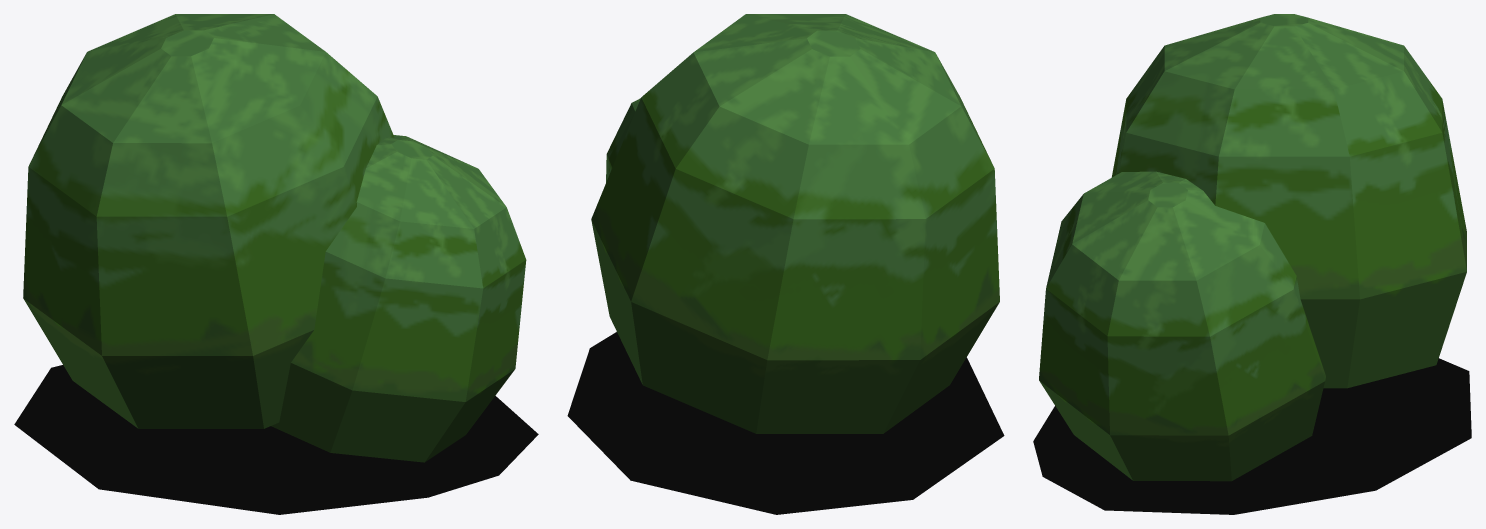
File: Tree_002.fbx
3 views of the same model, side by side, from view 1: azimuth 30°, elevation 25°; view 2: azimuth 150°, elevation 25°; view 3: azimuth 270°, elevation 25° (orthographic). The views are drawn at different scales.
Parts seen in each view (by area): view 1: Tree_002_01, Tree_002_02, Shadow; view 2: Tree_002_01, Shadow, Tree_002_02; view 3: Tree_002_01, Tree_002_02, Shadow.
Boxes of the visible parts, box(x1,y1,x2,y2) form: Tree_002_01: box(23, 14, 394, 428); Tree_002_02: box(271, 135, 526, 462); Shadow: box(14, 365, 538, 514); Tree_002_01: box(591, 14, 999, 433); Shadow: box(567, 332, 1004, 514); Tree_002_02: box(606, 98, 640, 182); Tree_002_01: box(1111, 14, 1466, 388); Tree_002_02: box(1039, 171, 1325, 481); Shadow: box(1033, 358, 1471, 514).
Size of the model in its own units: 2 by 1.88 by 2.
